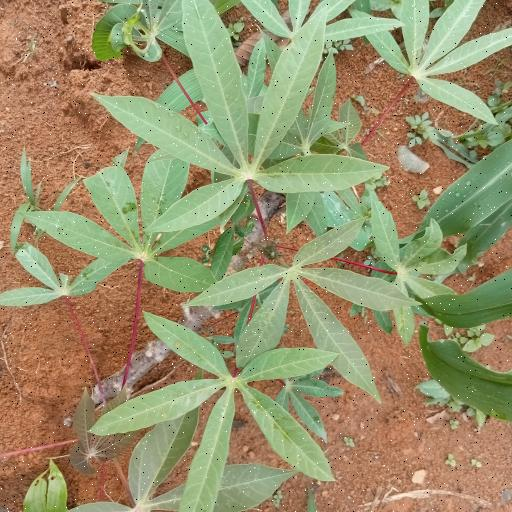Cassava_Mosaic: (198, 220, 409, 394)
